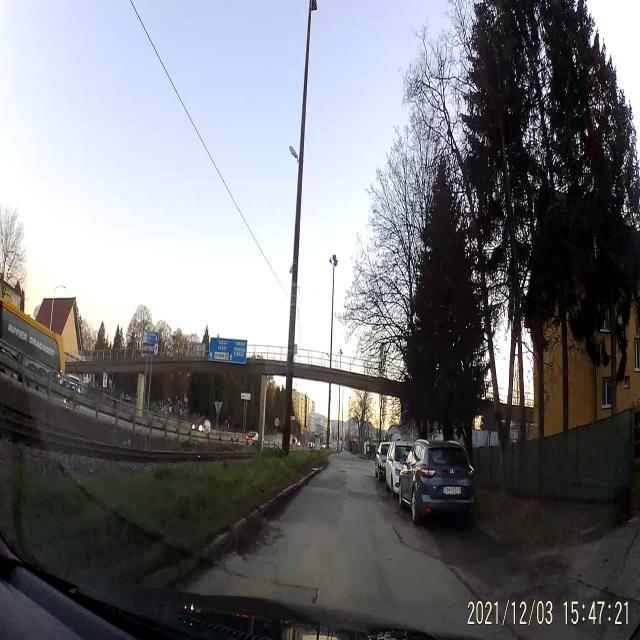Pothole: (238, 524, 272, 565)
